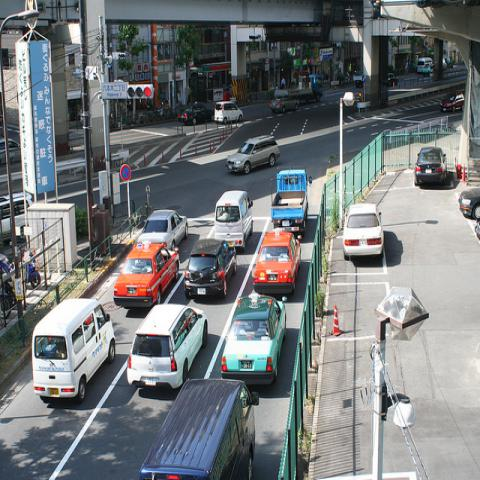car: (5, 56, 435, 234), (30, 293, 118, 411), (127, 304, 208, 390), (221, 293, 286, 387), (113, 240, 181, 308), (253, 230, 302, 296), (183, 240, 238, 298), (214, 191, 254, 253), (342, 203, 384, 262), (136, 208, 190, 251), (226, 135, 280, 173), (415, 146, 447, 184), (459, 185, 478, 219)
motorcycle: (22, 252, 40, 290)
truck: (140, 377, 260, 474), (270, 166, 312, 243), (214, 191, 253, 254), (274, 73, 324, 103), (214, 101, 243, 125), (417, 57, 433, 72)
